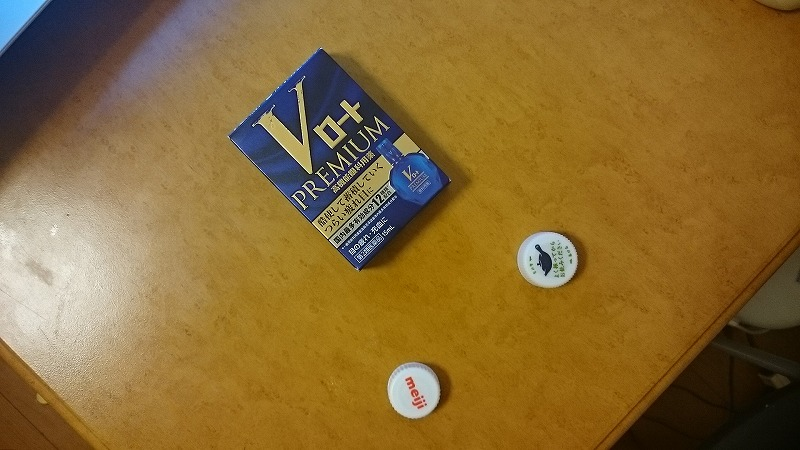A: (510, 225, 582, 292)
B: (381, 352, 449, 423)
D: (228, 44, 457, 277)
